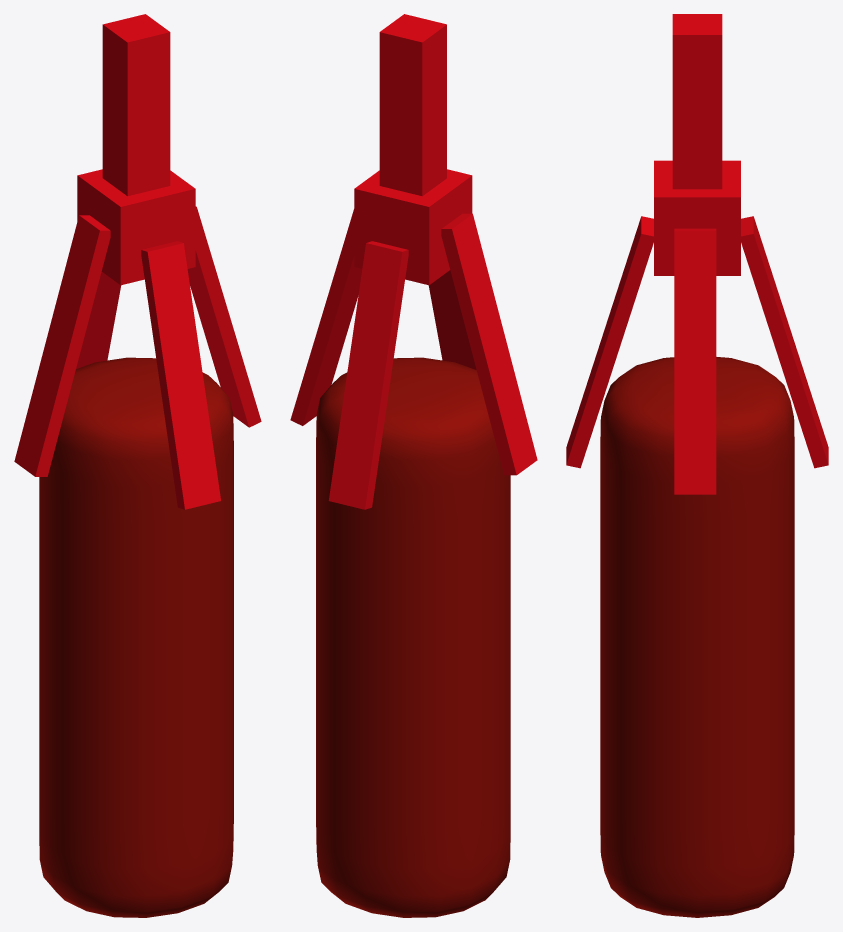
Rendered from punchingbag.fbx.
3 renders of one model, left to right at view 1: azimuth 30°, elevation 25°; view 2: azimuth 150°, elevation 25°; view 3: azimuth 270°, elevation 25°, orthographic.
Visible parts, largest first — view 1: bag, hang; view 2: bag, hang; view 3: bag, hang.
Boxes of the visible parts, bbox=[...] form: bag: bbox=[39, 357, 233, 917]; hang: bbox=[14, 14, 261, 509]; bag: bbox=[316, 357, 510, 917]; hang: bbox=[290, 14, 537, 509]; bag: bbox=[600, 357, 794, 917]; hang: bbox=[566, 14, 828, 494].
Bounding box in the file's own units: 118 × 432 × 118.
